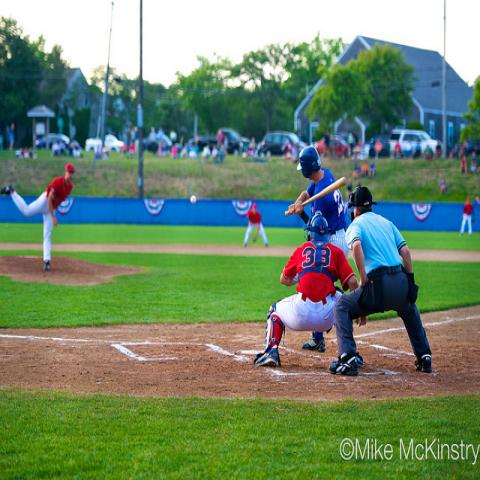car: (388, 129, 438, 161), (255, 131, 308, 158), (196, 129, 251, 154), (85, 133, 126, 156), (314, 134, 350, 159), (143, 133, 174, 156), (36, 134, 70, 150), (370, 134, 392, 156)
